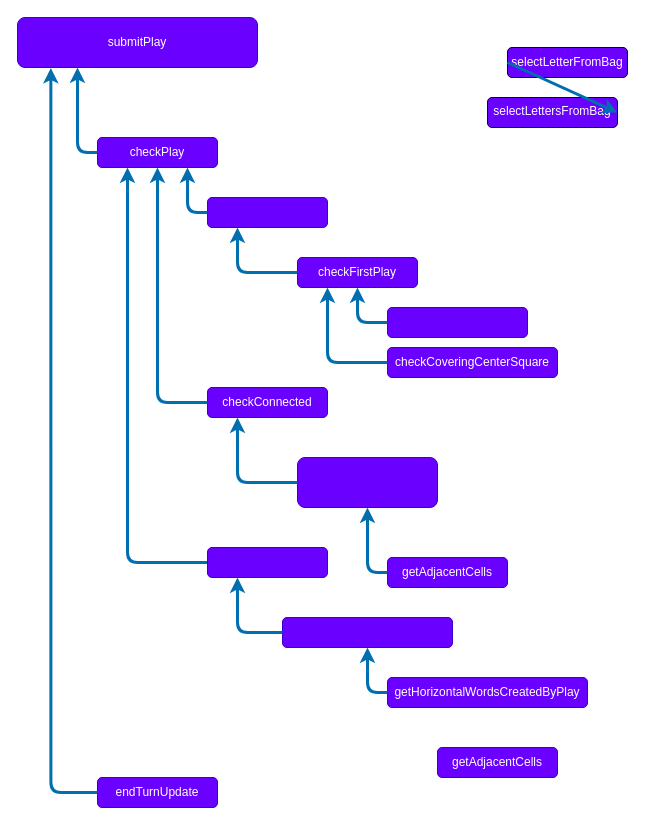
The diagram is 645 pixels wide and 825 high, and some of its shapes have lost their labels. Each missing label, with the box of its shape:
adjacent cells include at least one previously placed letter: (296, 456, 438, 508)
checkIsHorizontalPlay: (386, 306, 528, 338)
checkStraightPlay: (206, 196, 328, 228)
checkValidWords: (206, 546, 328, 578)
getNewWordsCreatedByPlay: (282, 616, 452, 648)
